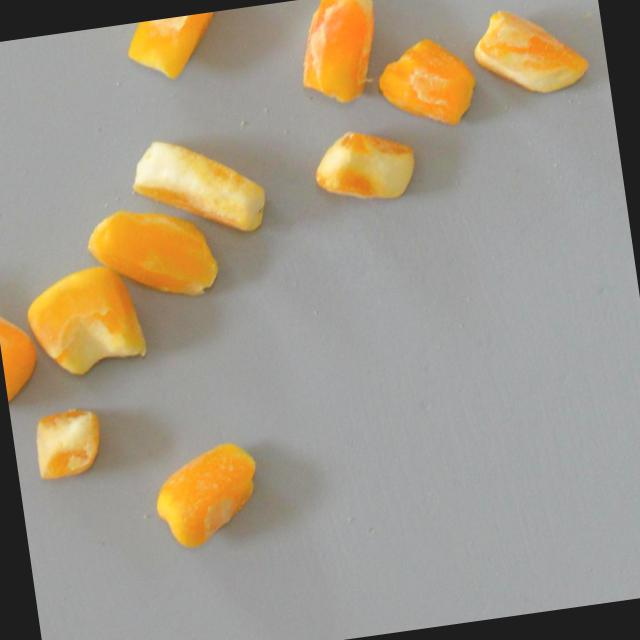pelicula: (128, 126, 271, 246), (83, 198, 223, 313), (24, 263, 151, 382), (147, 437, 267, 551), (469, 0, 599, 104), (370, 30, 483, 136), (289, 0, 387, 110), (120, 8, 250, 87), (310, 123, 423, 208), (30, 403, 106, 481), (0, 300, 46, 412)
